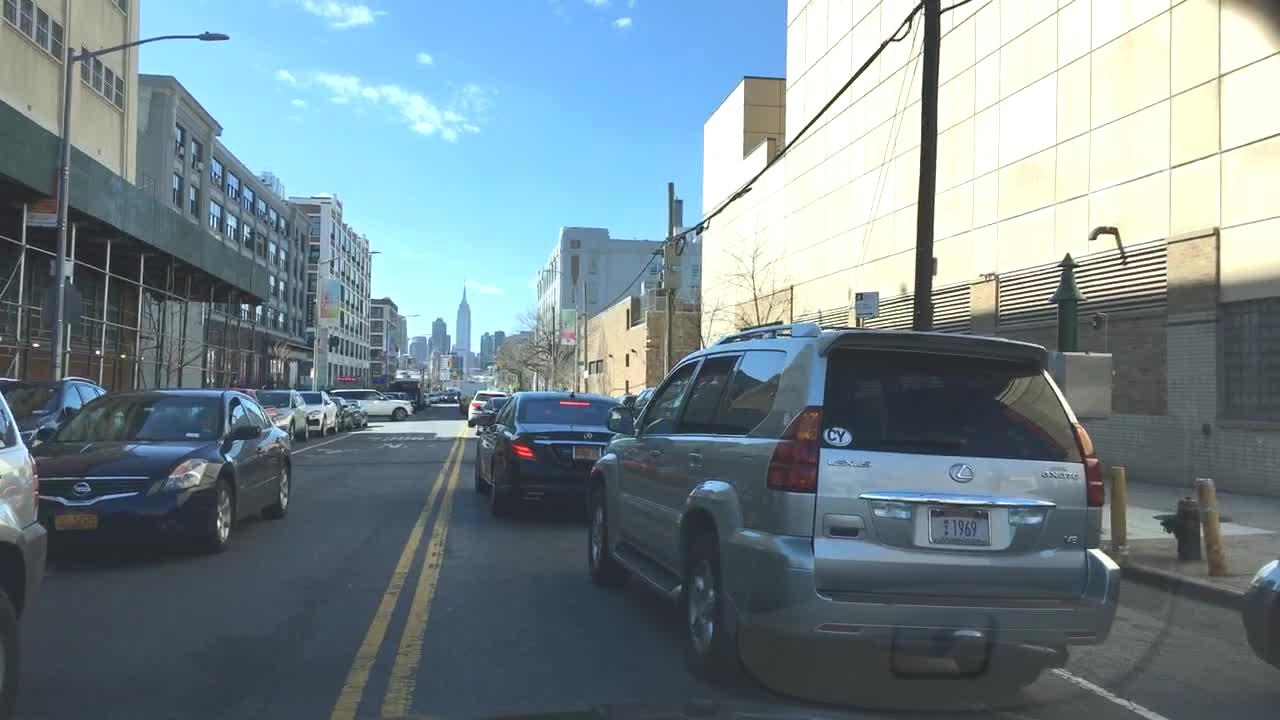Mercedes: (577, 429, 598, 445)
Nissan: (65, 478, 100, 503)
lexus: (944, 458, 979, 488)
